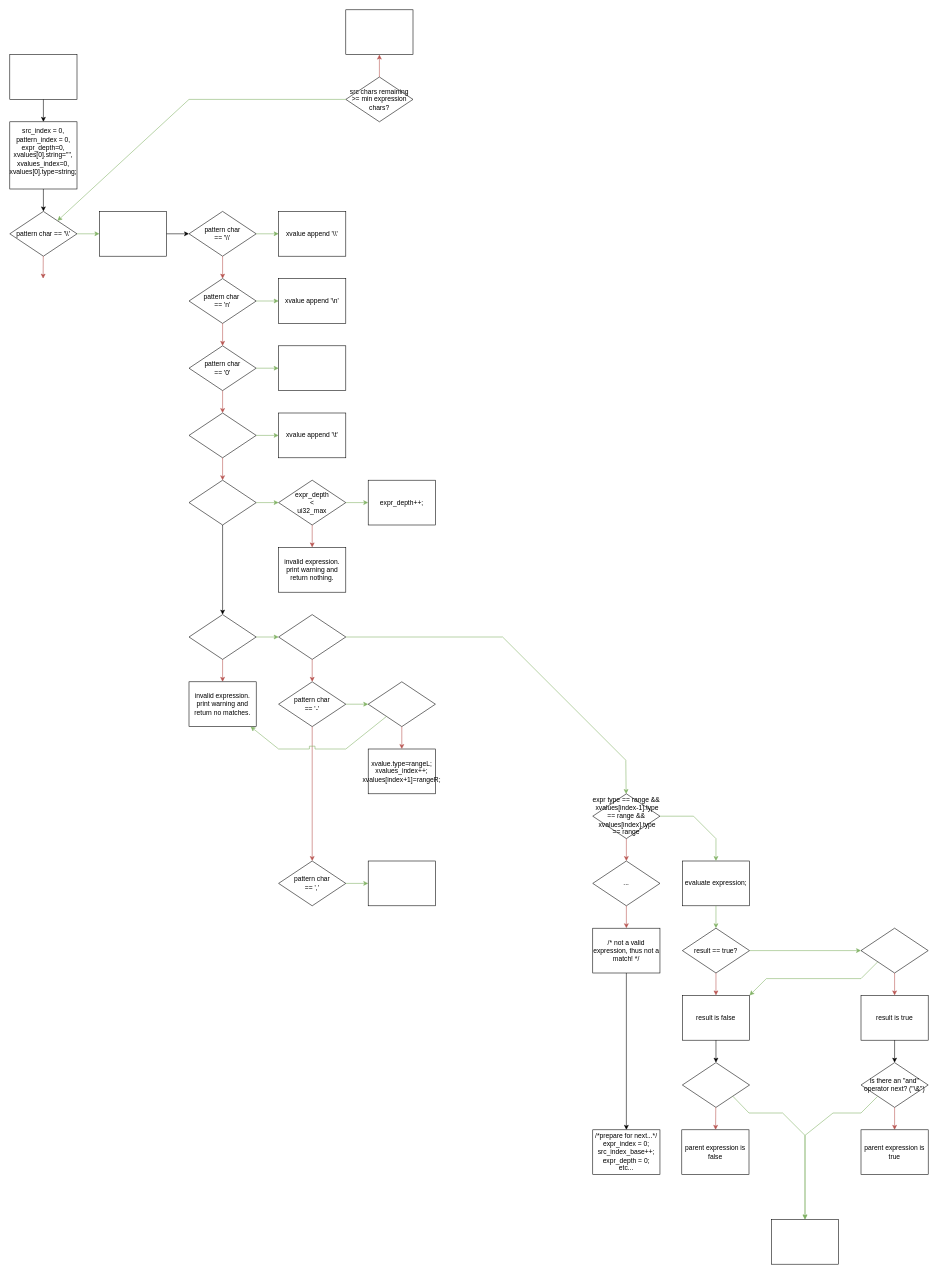
Some shapes in this 938 by 1274 pixel diagram are drawn without their labels. Each missing label, with the centre of its shape:
enter function: [43,76]
evaluate next expression: [805,1241]
exit function: [379,32]
expr_depth>0: [222,636]
is prefixed by "\!": [894,950]
is there an "or" operator next? ("\|"): [716,1084]
pattern char == 't': [222,435]
pattern char == '{': [222,502]
pattern char == '}': [312,636]
pattern index++;: [133,233]
xvalue append '\0': [312,368]
xvalues[index-1].type == rangeL: [401,704]
xvalues_index++; xvalue.type=attribute; xvalue.string="";: [401,883]
